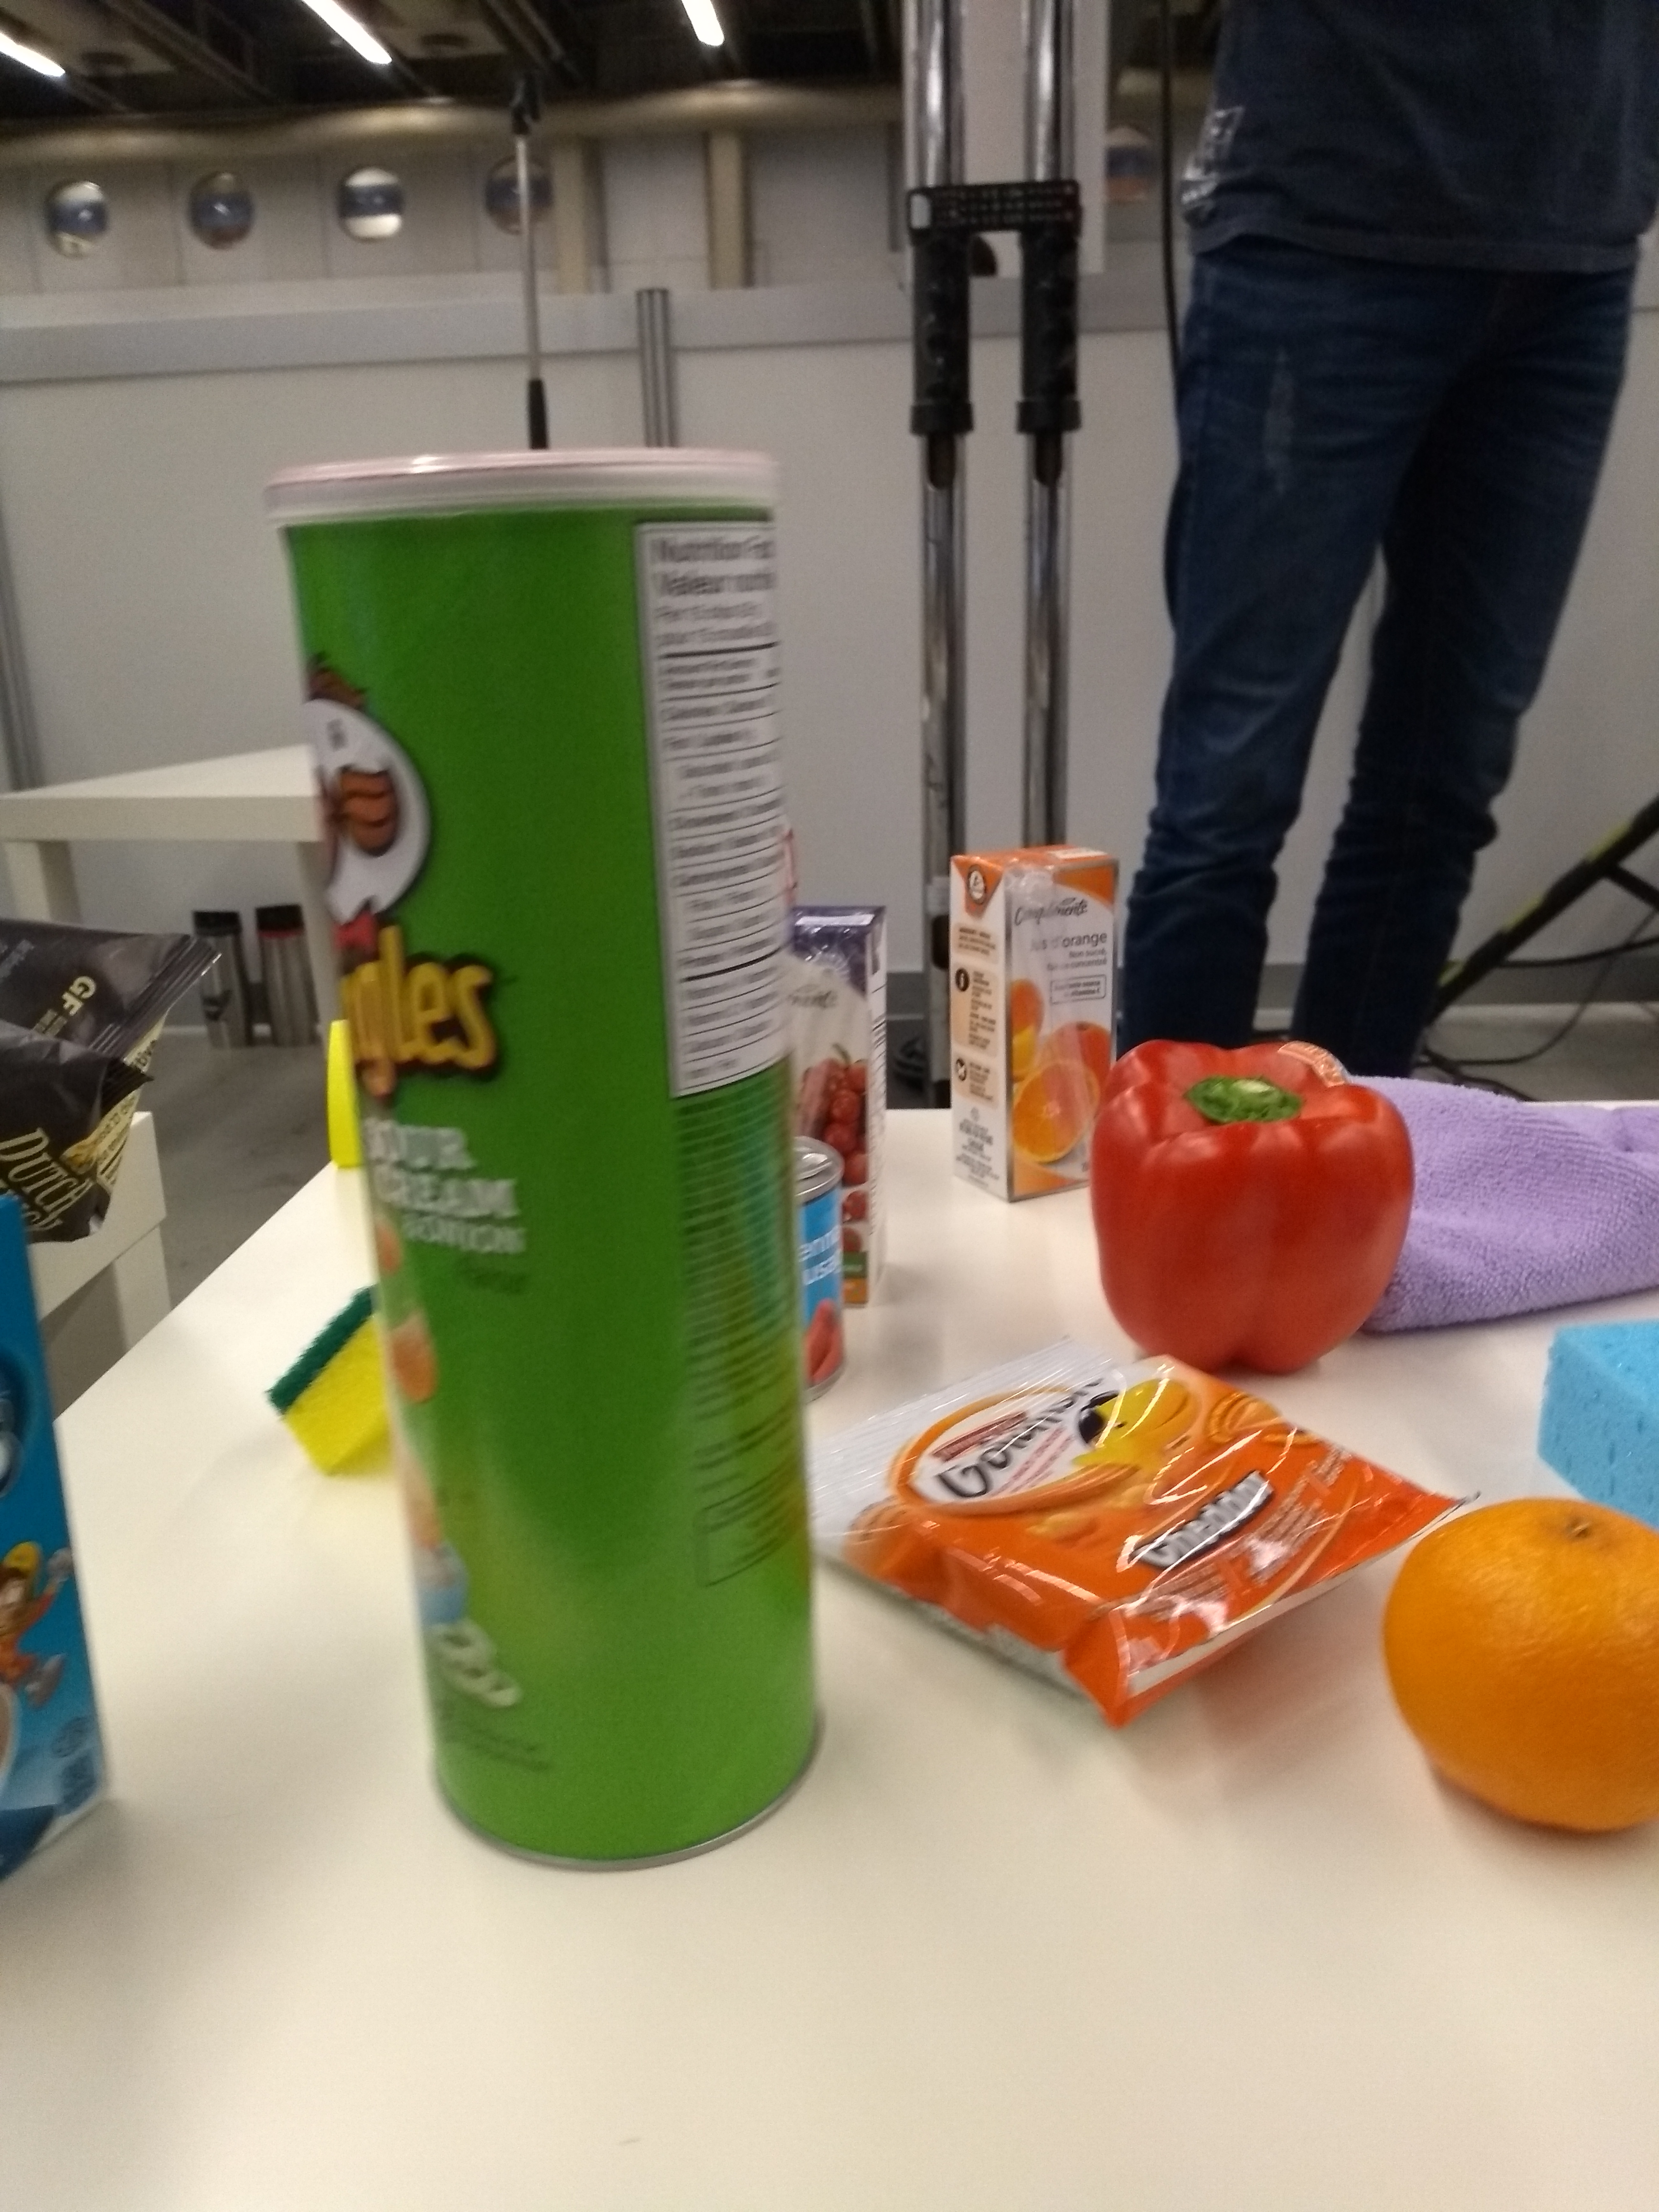cloth_opl: (1366, 1061, 1659, 1339)
crackers: (826, 1329, 1412, 1712)
grape_juice: (789, 881, 887, 1280)
orange: (1377, 1493, 1659, 1834)
orange_juice: (939, 833, 1126, 1211)
paprika: (1082, 1028, 1413, 1400)
pringles: (251, 458, 833, 1867)
sausages: (788, 1141, 847, 1390)
sponge_opl: (1525, 1310, 1659, 1533)
